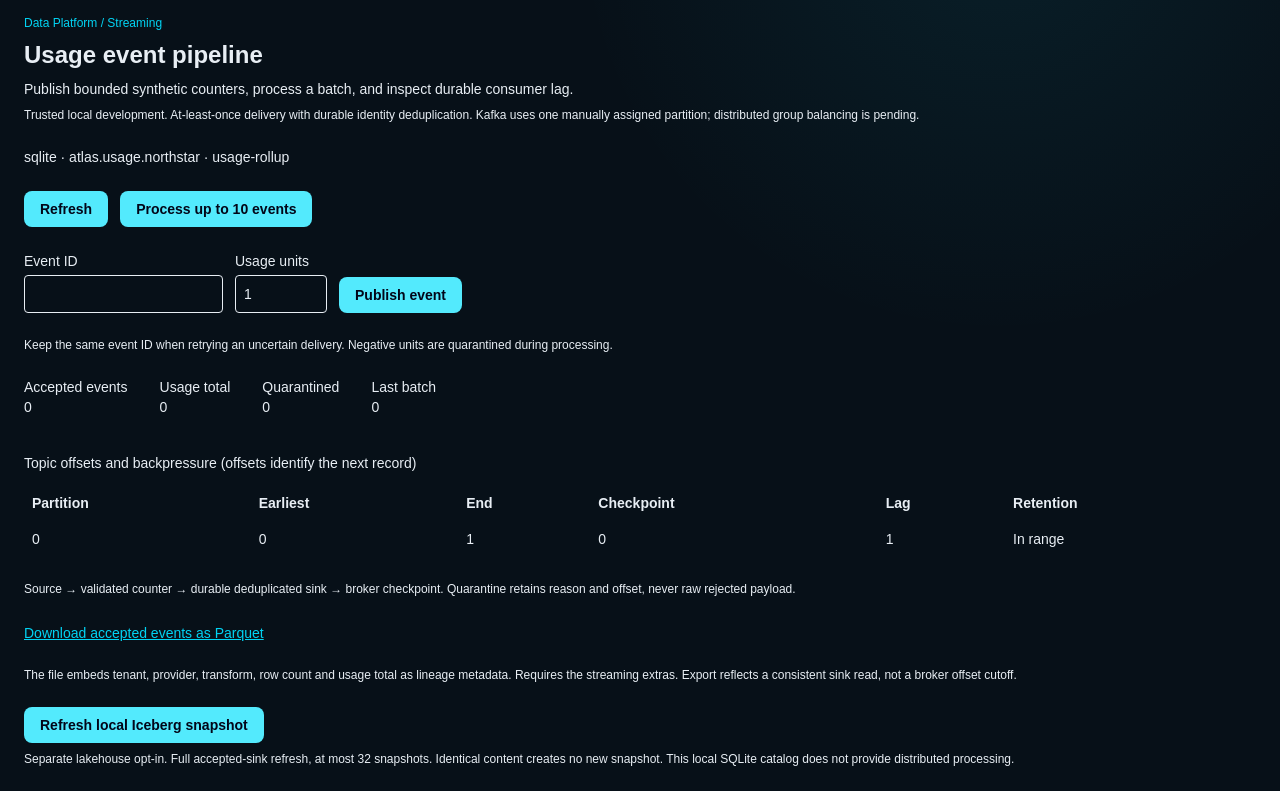
Test case: publishes and displays bounded Iceberg snapshot history
Expected: the text "sqlite · atlas.usage.northstar · usage-rollup" is shown, [24, 149, 289, 165]
Click the button "Refresh local Iceberg snapshot" at point(144, 725), box [24, 707, 264, 743]
(page scrolled)
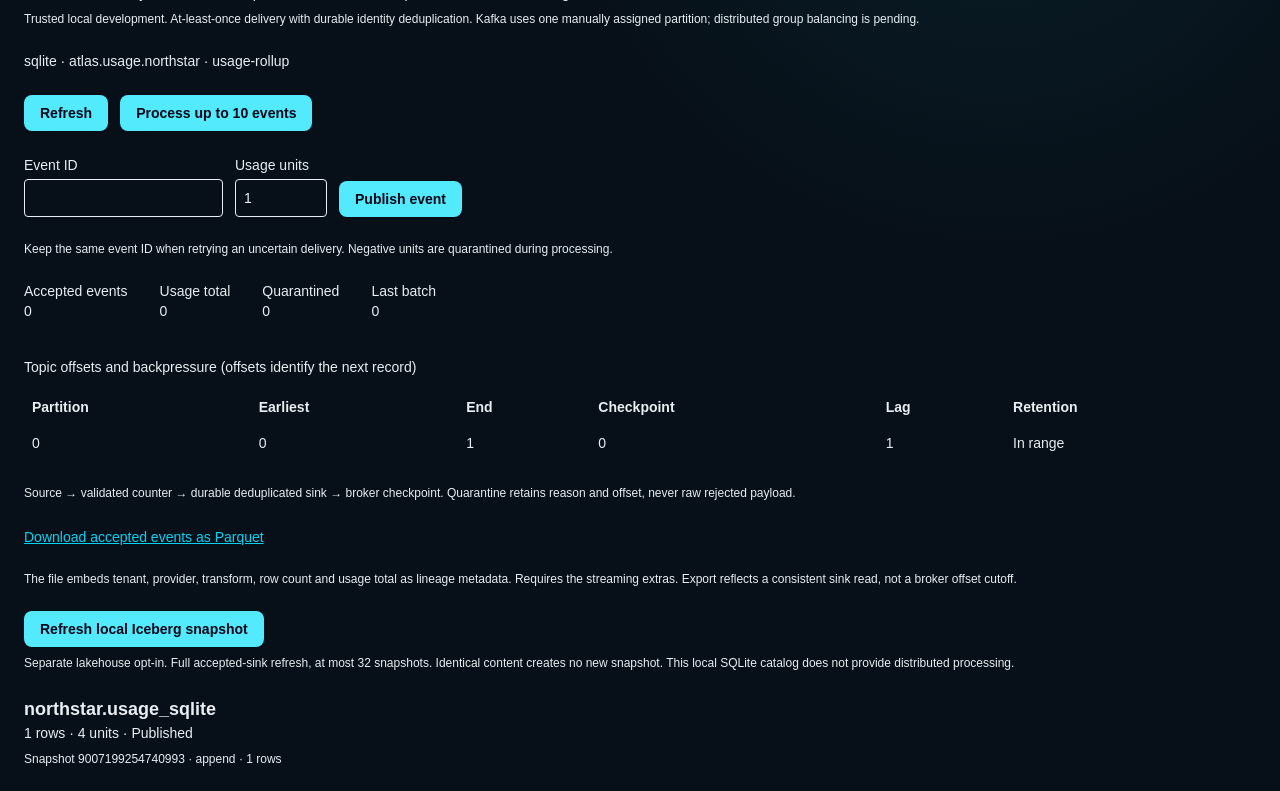
Expected: the element named "Lakehouse snapshot history" shows "9007199254740993", [78, 752, 185, 766]
